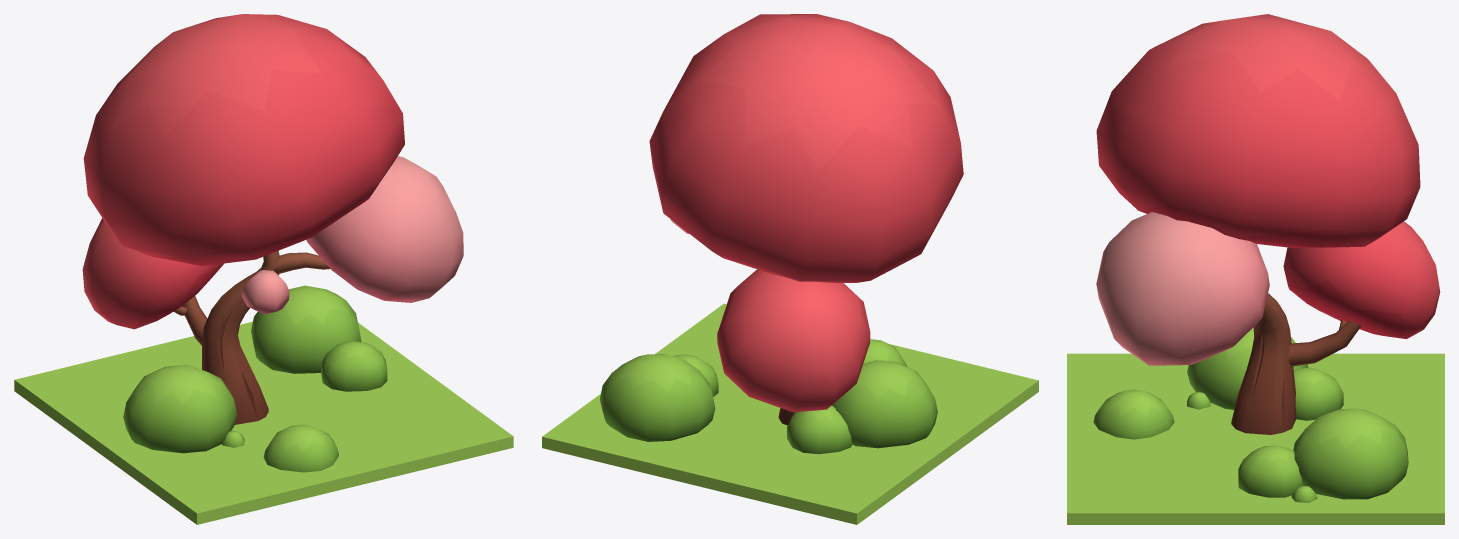
File: cherry_blossom.glb
The picture shows the model from 3 angles, left to right: view 1: azimuth 30°, elevation 25°; view 2: azimuth 150°, elevation 25°; view 3: azimuth 270°, elevation 25°; orthographic projection. The views are drawn at different scales.
Parts seen in each view (by area): view 1: Cherry Blossom; view 2: Cherry Blossom; view 3: Cherry Blossom.
Part boxes in pixels (<box>): Cherry Blossom: <box>14,14,513,524</box>; Cherry Blossom: <box>542,14,1038,524</box>; Cherry Blossom: <box>1067,14,1444,524</box>.
Size of the model in its own units: 0.29 by 0.3559 by 0.29.
1 material, 1 textured.
